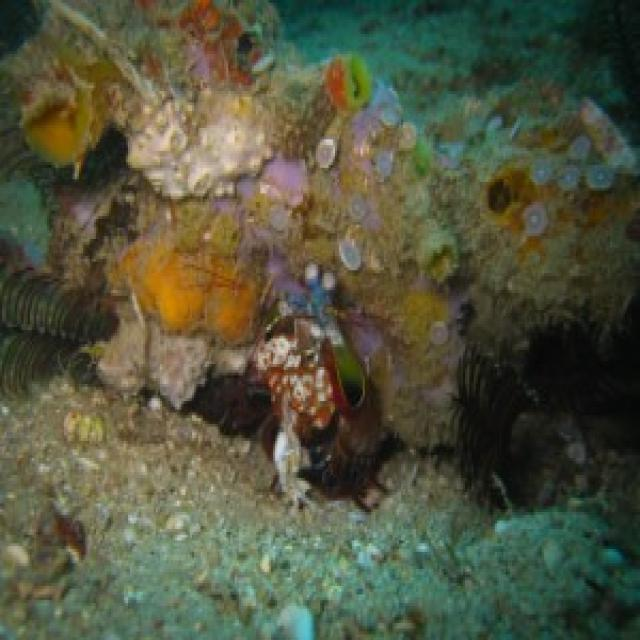lobsters: (194, 288, 394, 514), (0, 247, 184, 430)
